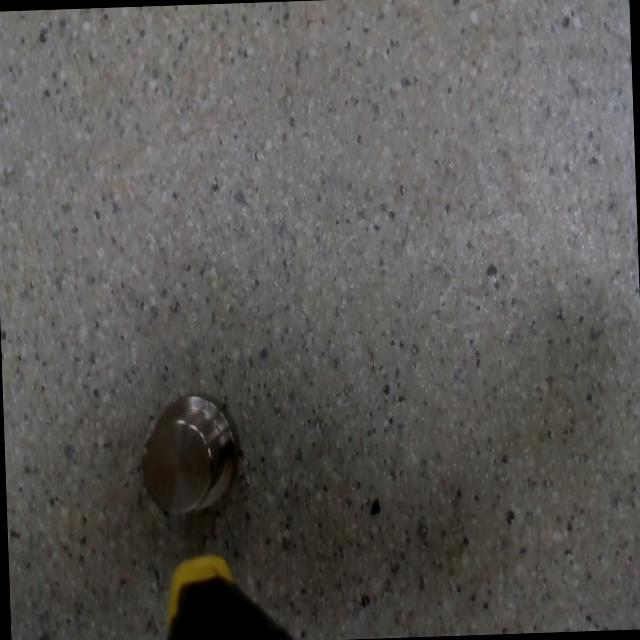sensor: (138, 390, 244, 517)
